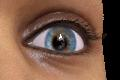eye: (45, 28, 77, 53)
